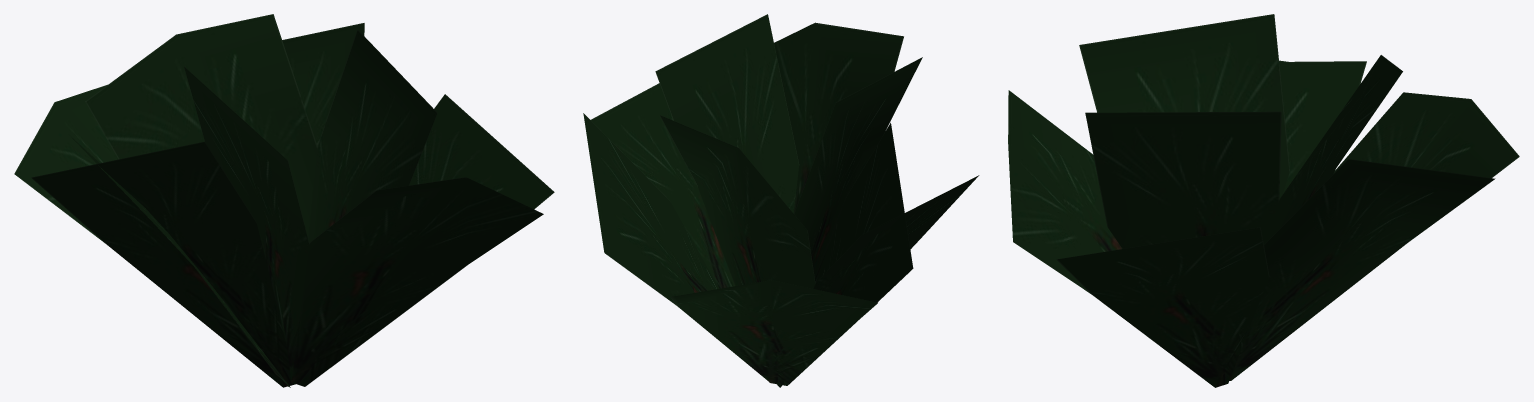
The model's file is jungle_plant_a.fbx.
3 renders of one model, left to right at view 1: azimuth 30°, elevation 25°; view 2: azimuth 150°, elevation 25°; view 3: azimuth 270°, elevation 25°, orthographic. The views are drawn at different scales.
Visible parts, largest first — view 1: leaves_1, leaves_3, leaves_2; view 2: leaves_3, leaves_2, leaves_1; view 3: leaves_1, leaves_2, leaves_3.
Part boxes in pixels (x1,y1,x2,y2): leaves_1: (184,66,554,386); leaves_3: (14,23,364,387); leaves_2: (68,14,437,387); leaves_3: (583,113,913,385); leaves_2: (655,14,979,387); leaves_1: (591,22,922,382); leaves_1: (1008,14,1289,387); leaves_2: (1085,55,1402,248); leaves_3: (1229,60,1519,380).
Bounding box in the file's own units: 1373 × 1116 × 1577.
Materials: 1 (1 with a texture image).
